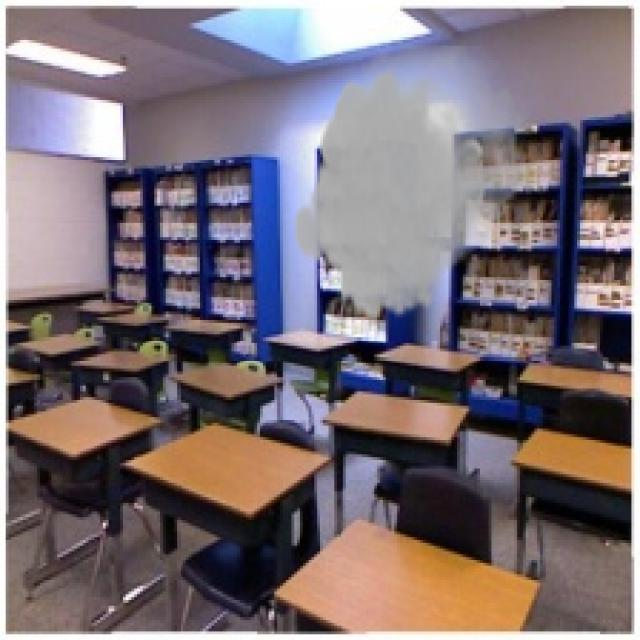smoke: (292, 46, 537, 326)
